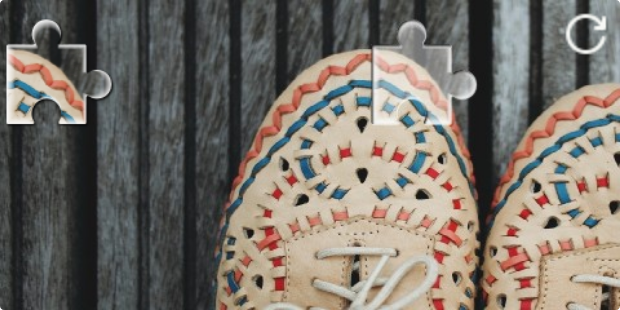target: (371, 20, 478, 126)
